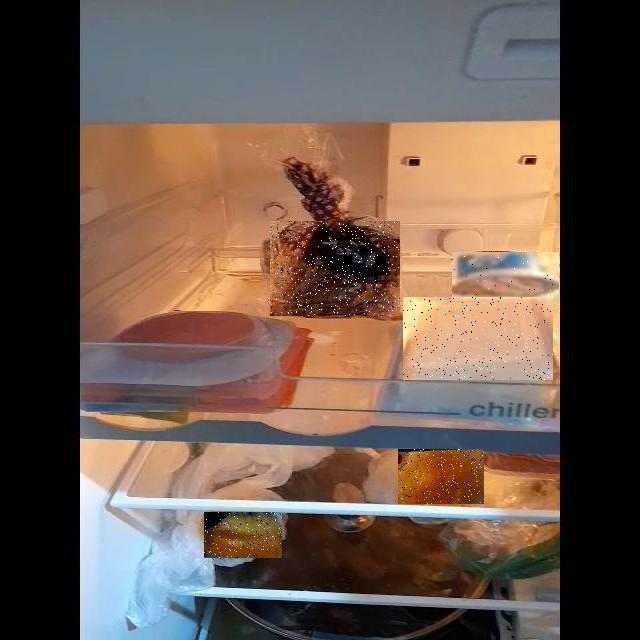Bread: (270, 221, 400, 316)
Cheese: (403, 297, 553, 380)
Lemon: (398, 449, 484, 504), (204, 512, 282, 558)
Yoghurt: (452, 252, 559, 299)
